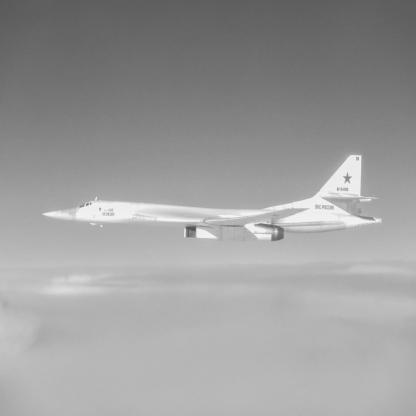Tu160: (42, 156, 383, 243)
